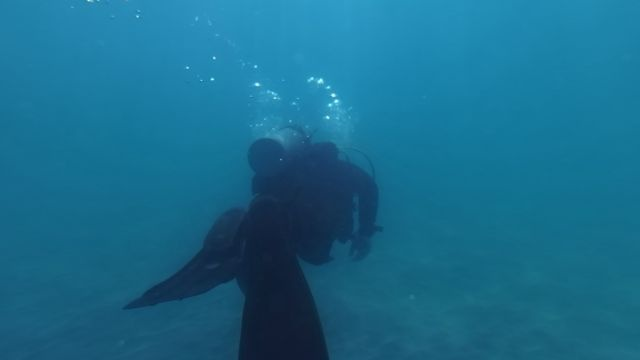Diver: (122, 124, 398, 357)
Hand: (347, 230, 375, 272)
